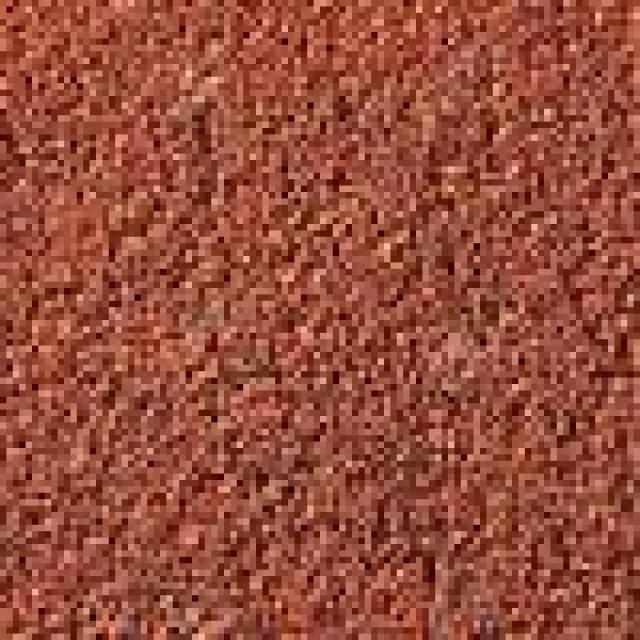Red Soil: (78, 58, 555, 570)
